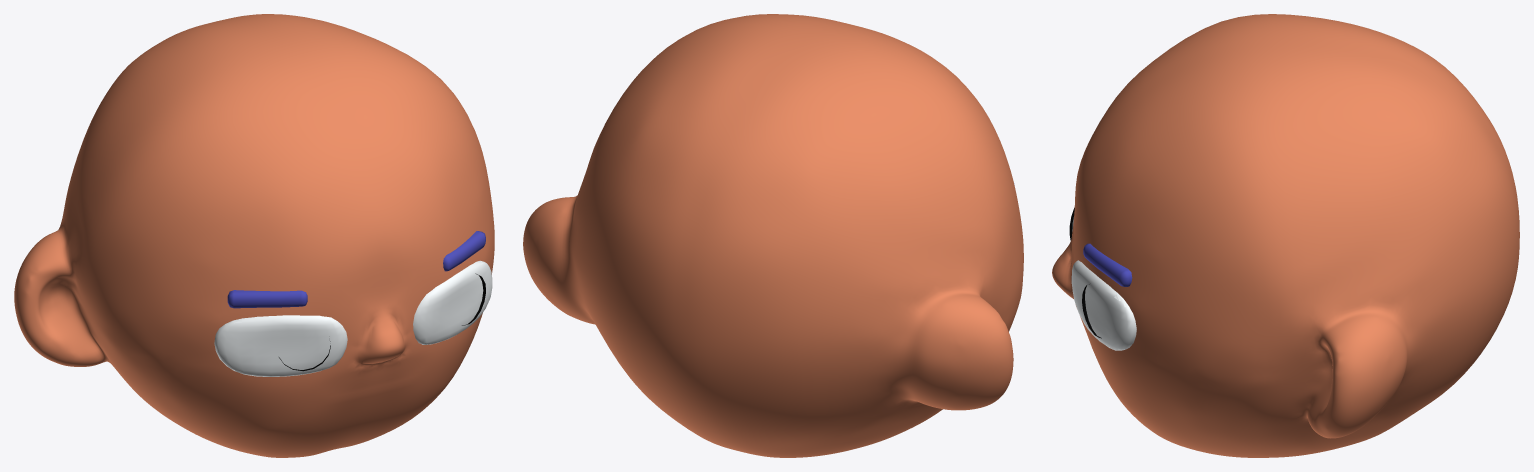
Rendered from Dummy_head_001.glb.
The picture shows the model from 3 angles, left to right: view 1: azimuth 30°, elevation 25°; view 2: azimuth 150°, elevation 25°; view 3: azimuth 270°, elevation 25°; orthographic projection. The views are drawn at different scales.
Parts seen in each view (by area): view 1: head_02, eye_ball_02, eyebrown_02; view 2: head_02; view 3: head_02, eye_ball_02, eyebrown_02.
Part boxes in pixels (<box>): head_02: <box>14,14,494,457</box>; eye_ball_02: <box>214,260,492,376</box>; eyebrown_02: <box>227,231,485,308</box>; head_02: <box>523,14,1023,457</box>; head_02: <box>1052,14,1519,457</box>; eye_ball_02: <box>1071,217,1136,350</box>; eyebrown_02: <box>1083,243,1132,286</box>.
Bounding box in the file's own units: 1.4 × 1.1 × 1.18.
